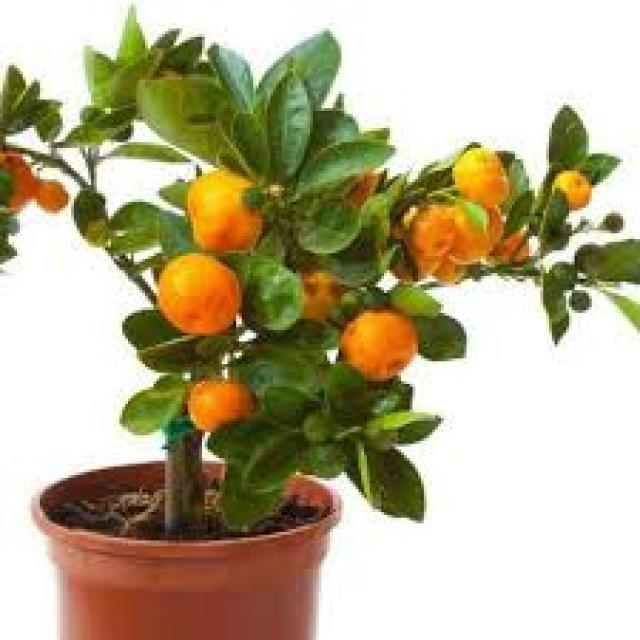orange: (153, 245, 248, 342), (342, 304, 431, 390)
